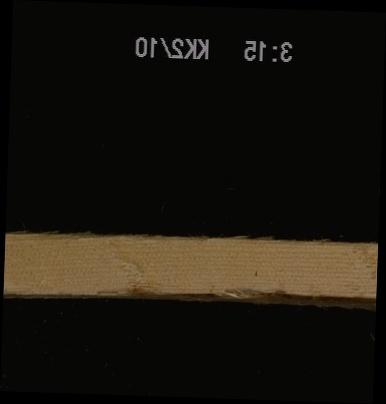wave: (101, 282, 375, 301)
